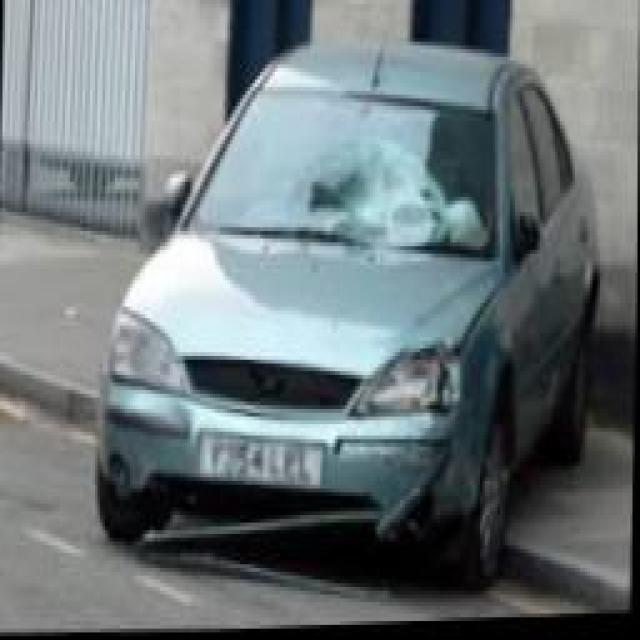replaceable: (366, 152, 478, 254), (380, 319, 480, 429)
